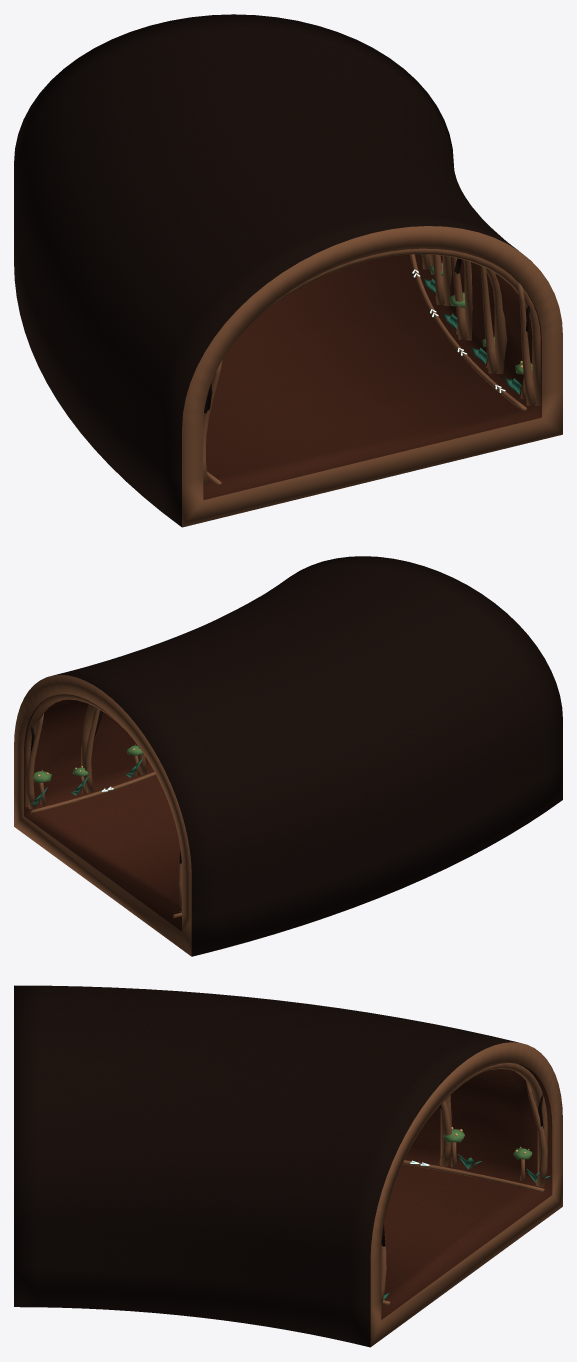
File: curve_right_30_lod1.glb
The picture shows the model from 3 angles, top to bottom: view 1: azimuth 30°, elevation 25°; view 2: azimuth 150°, elevation 25°; view 3: azimuth 270°, elevation 25°; orthographic projection. The views are drawn at different scales.
Parts seen in each view (by area): view 1: TunnelGeometry.001; view 2: TunnelGeometry.001; view 3: TunnelGeometry.001.
Part boxes in pixels (left/top/right/bottom): TunnelGeometry.001: left=14, top=14, right=562, bottom=527; TunnelGeometry.001: left=14, top=556, right=562, bottom=956; TunnelGeometry.001: left=14, top=985, right=562, bottom=1347.
Bounding box in the file's own units: 19.1 × 9.52 × 21.83.
7 materials, 2 textured.
